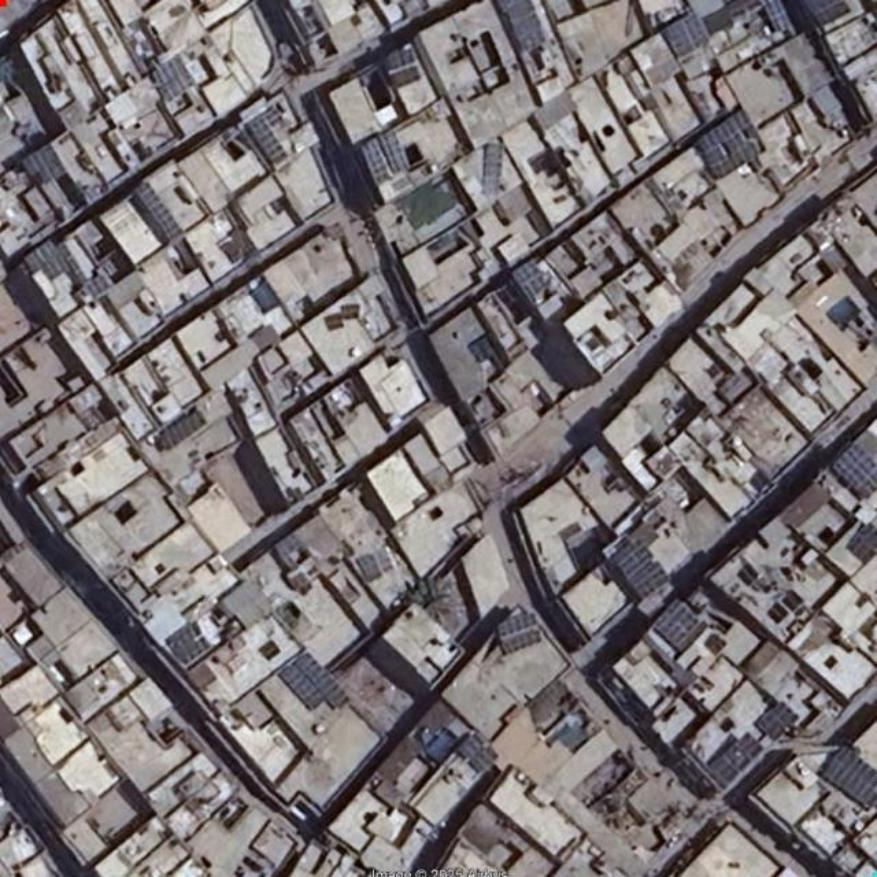Solarpanel: (698, 109, 762, 176), (821, 746, 876, 812), (297, 655, 348, 710), (135, 182, 184, 239), (711, 730, 763, 782), (831, 443, 876, 501), (495, 0, 545, 52), (618, 545, 667, 598), (360, 132, 409, 182), (278, 665, 326, 709), (655, 599, 699, 647), (152, 54, 193, 100), (158, 408, 205, 448), (247, 115, 285, 162), (500, 612, 541, 654), (667, 14, 709, 54), (758, 699, 797, 740), (165, 623, 206, 662), (804, 0, 850, 24), (481, 144, 502, 194), (763, 0, 792, 31), (384, 46, 414, 67)
